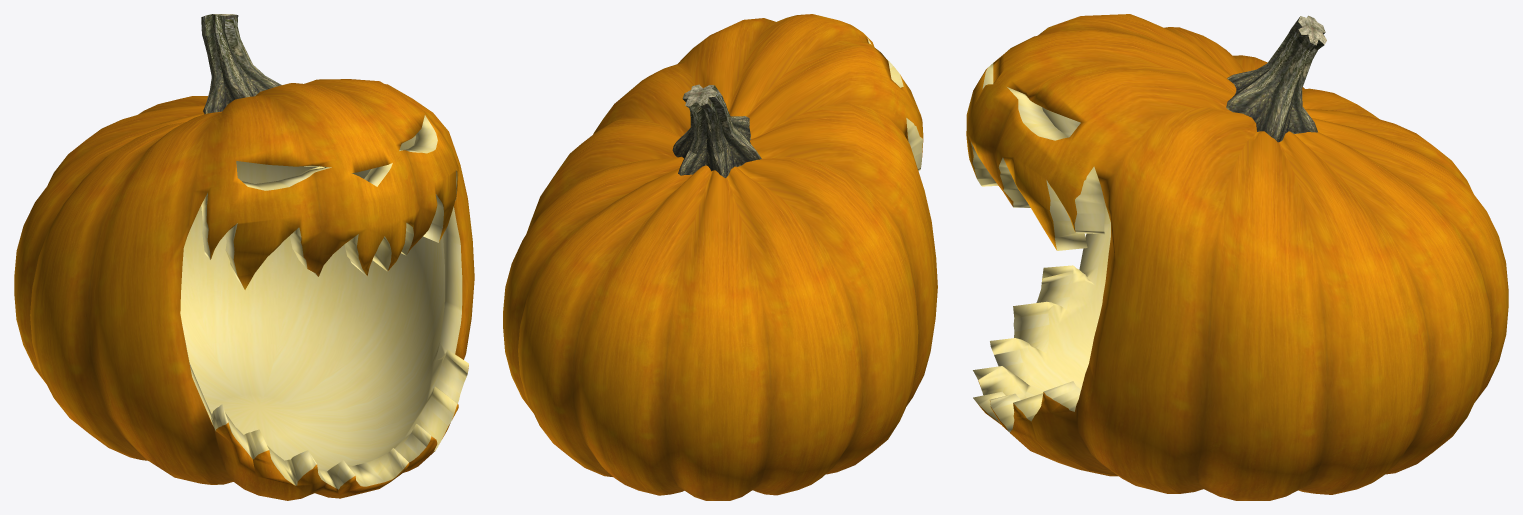
Rendered from pumpkin_morph1.obj.
The picture shows the model from 3 angles, left to right: view 1: azimuth 30°, elevation 25°; view 2: azimuth 150°, elevation 25°; view 3: azimuth 270°, elevation 25°; orthographic projection. The views are drawn at different scales.
Parts seen in each view (by area): view 1: Pumpkin_Mesh4_PumpkinA1_Model; view 2: Pumpkin_Mesh4_PumpkinA1_Model; view 3: Pumpkin_Mesh4_PumpkinA1_Model.
Part boxes in pixels (x1,y1,x2,y2): Pumpkin_Mesh4_PumpkinA1_Model: (14, 14, 474, 500); Pumpkin_Mesh4_PumpkinA1_Model: (503, 14, 937, 500); Pumpkin_Mesh4_PumpkinA1_Model: (966, 14, 1508, 500).
Bounding box in the file's own units: 0.4981 × 0.4918 × 0.5624.
Materials: 4 (4 with a texture image).
